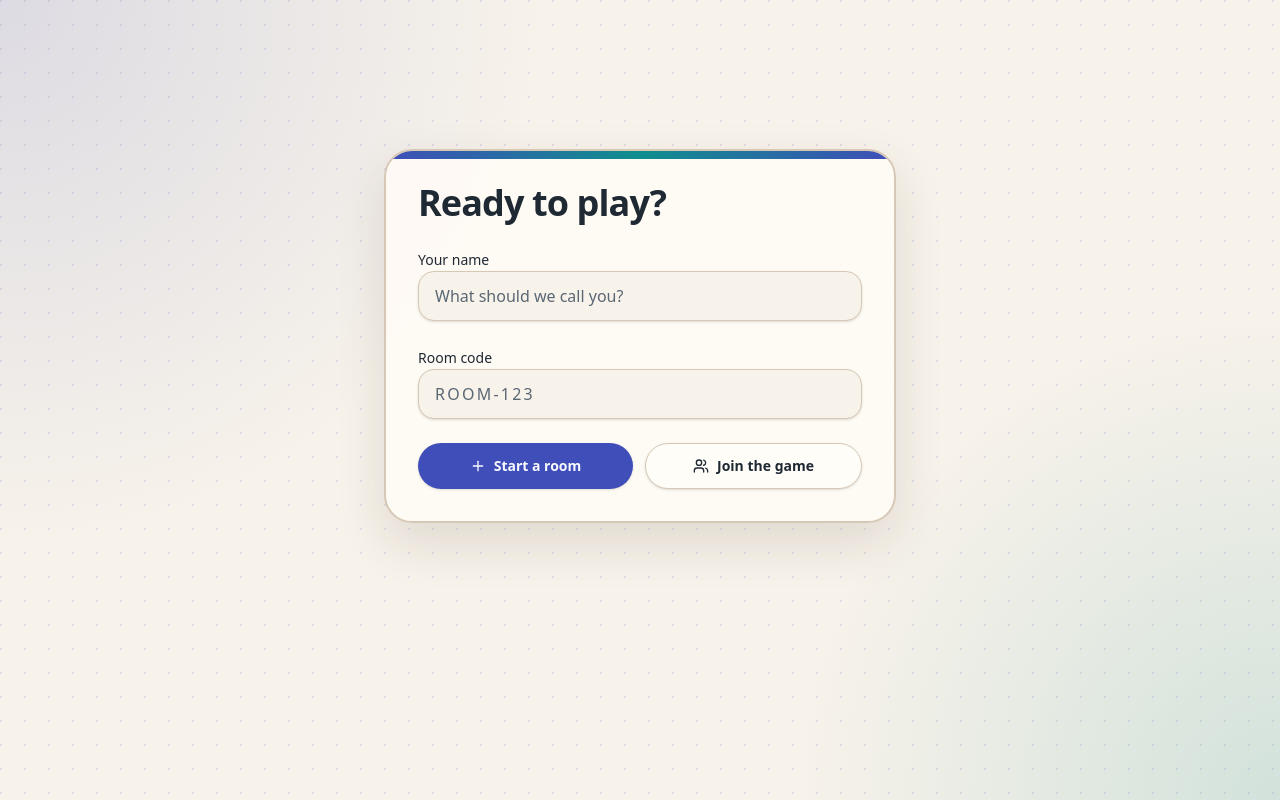
Test: LandingPage › shows friendly API error text without navigating away
This screenshot has width=1280, height=800.
Type "Sam" into the field labelled "Your name" at (640, 296), box [418, 271, 862, 321]
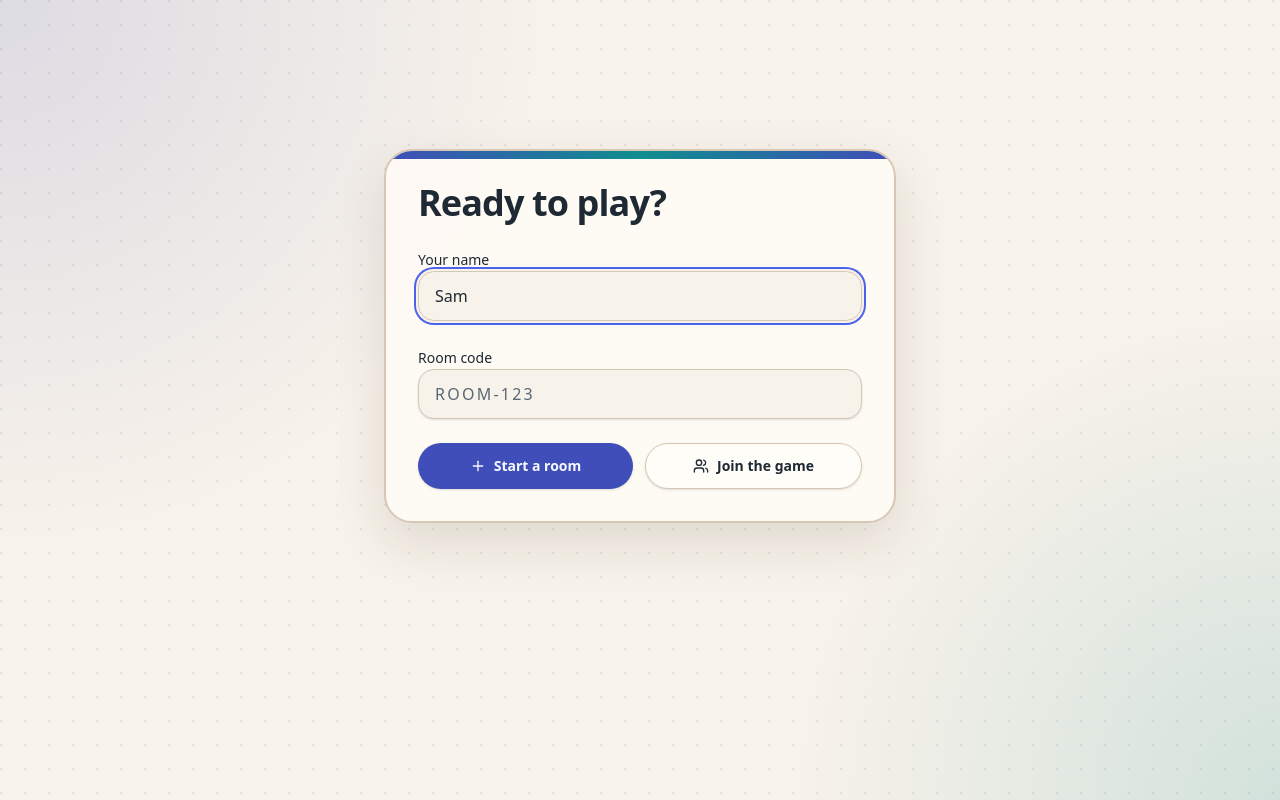
Type "missing-room" into the field labelled "Room code" at (640, 394), box [418, 369, 862, 419]
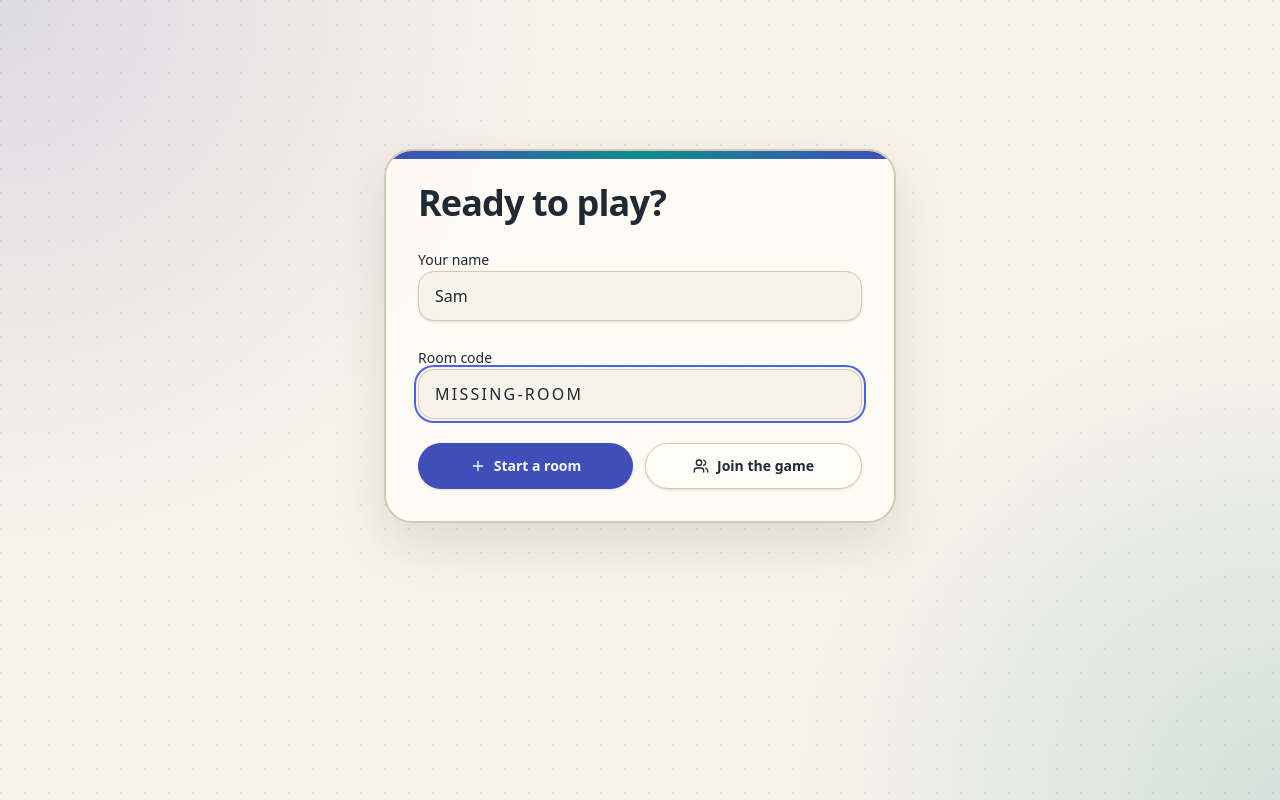
Click the button "Join the game" at (754, 466), box [645, 443, 862, 489]
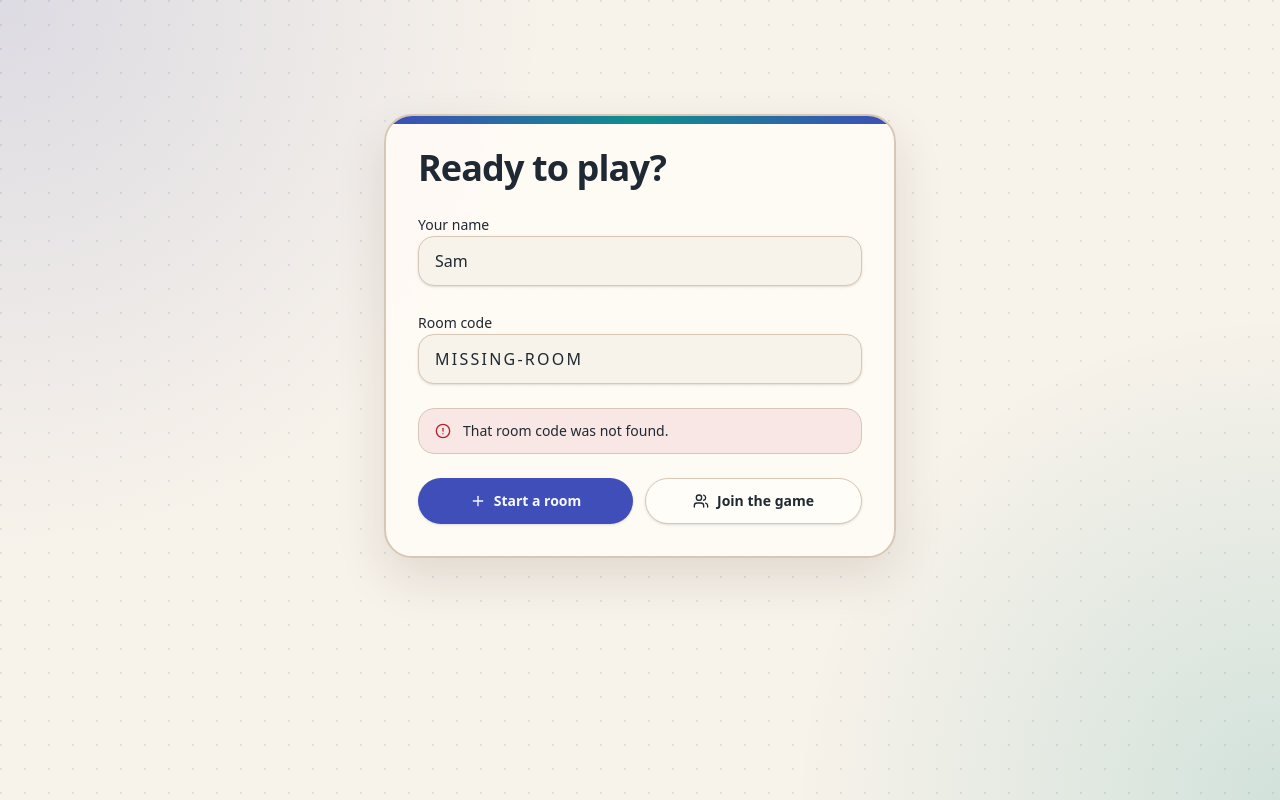
expect the message shows "That room code was not found": met, box [463, 421, 668, 440]
